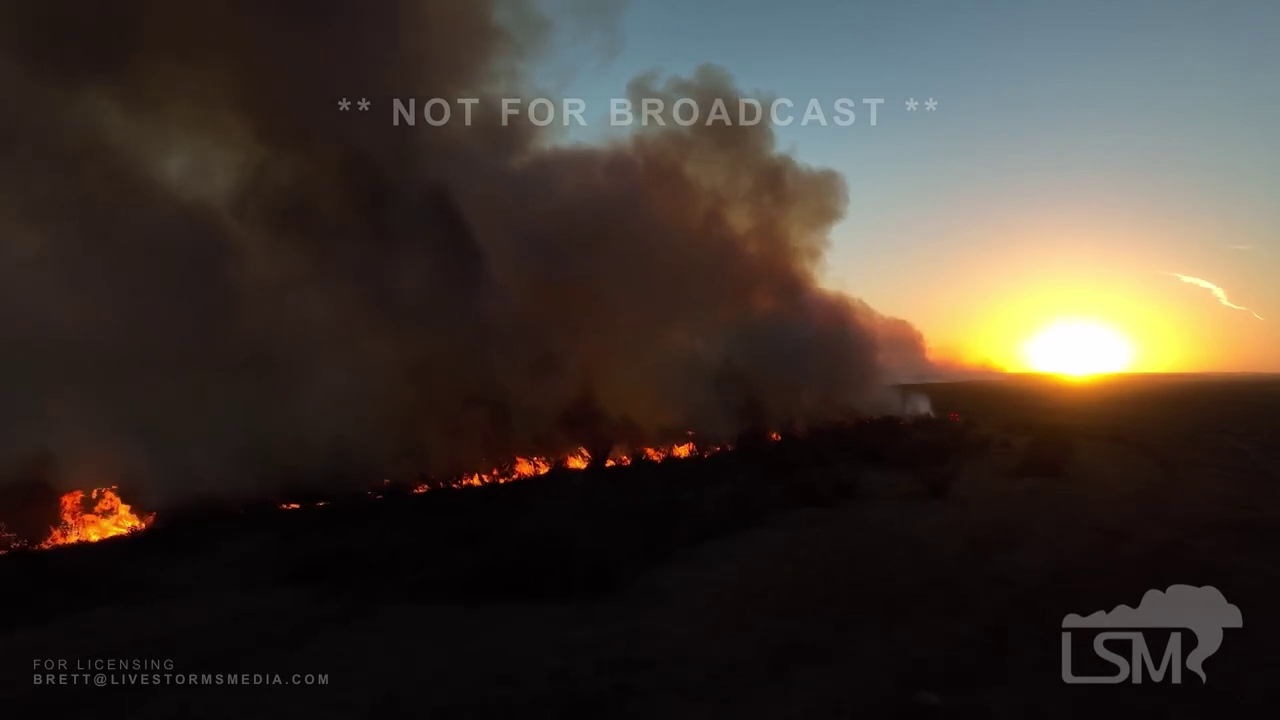forest_fire: (0, 487, 153, 553), (411, 446, 598, 494), (40, 487, 152, 547), (40, 486, 151, 546), (602, 436, 731, 467), (278, 500, 329, 509)
